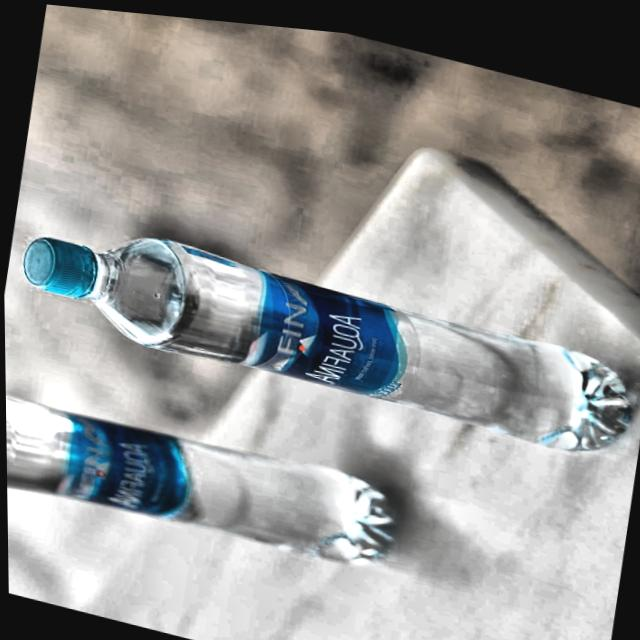Bottles: (11, 184, 640, 462)
